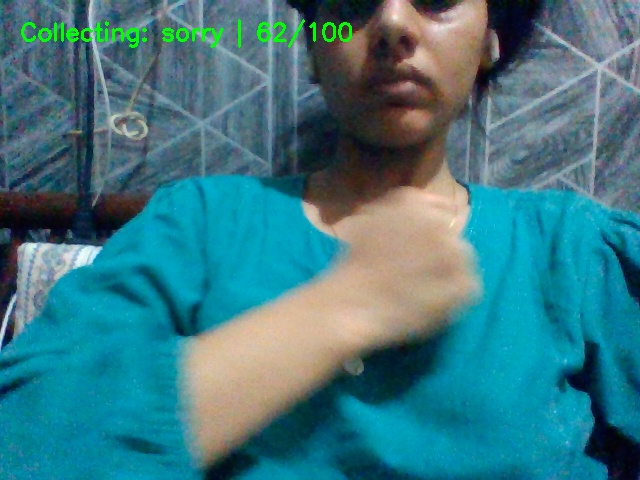sorry: (316, 179, 500, 361)
